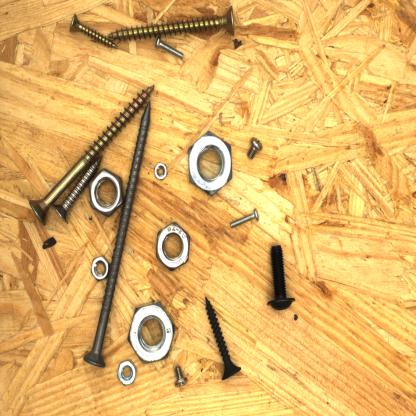screw: (26, 81, 158, 227), (82, 98, 152, 370), (105, 3, 237, 44), (50, 150, 106, 225), (203, 294, 244, 383), (263, 240, 297, 314), (67, 11, 120, 51), (154, 34, 186, 60), (228, 207, 263, 230), (171, 363, 190, 390), (246, 134, 264, 162)
